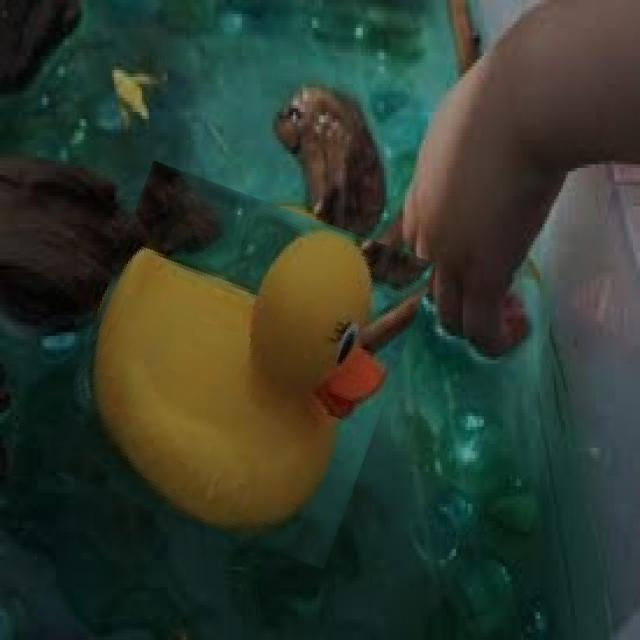rubber-duck: (93, 163, 369, 526), (333, 349, 379, 405)
